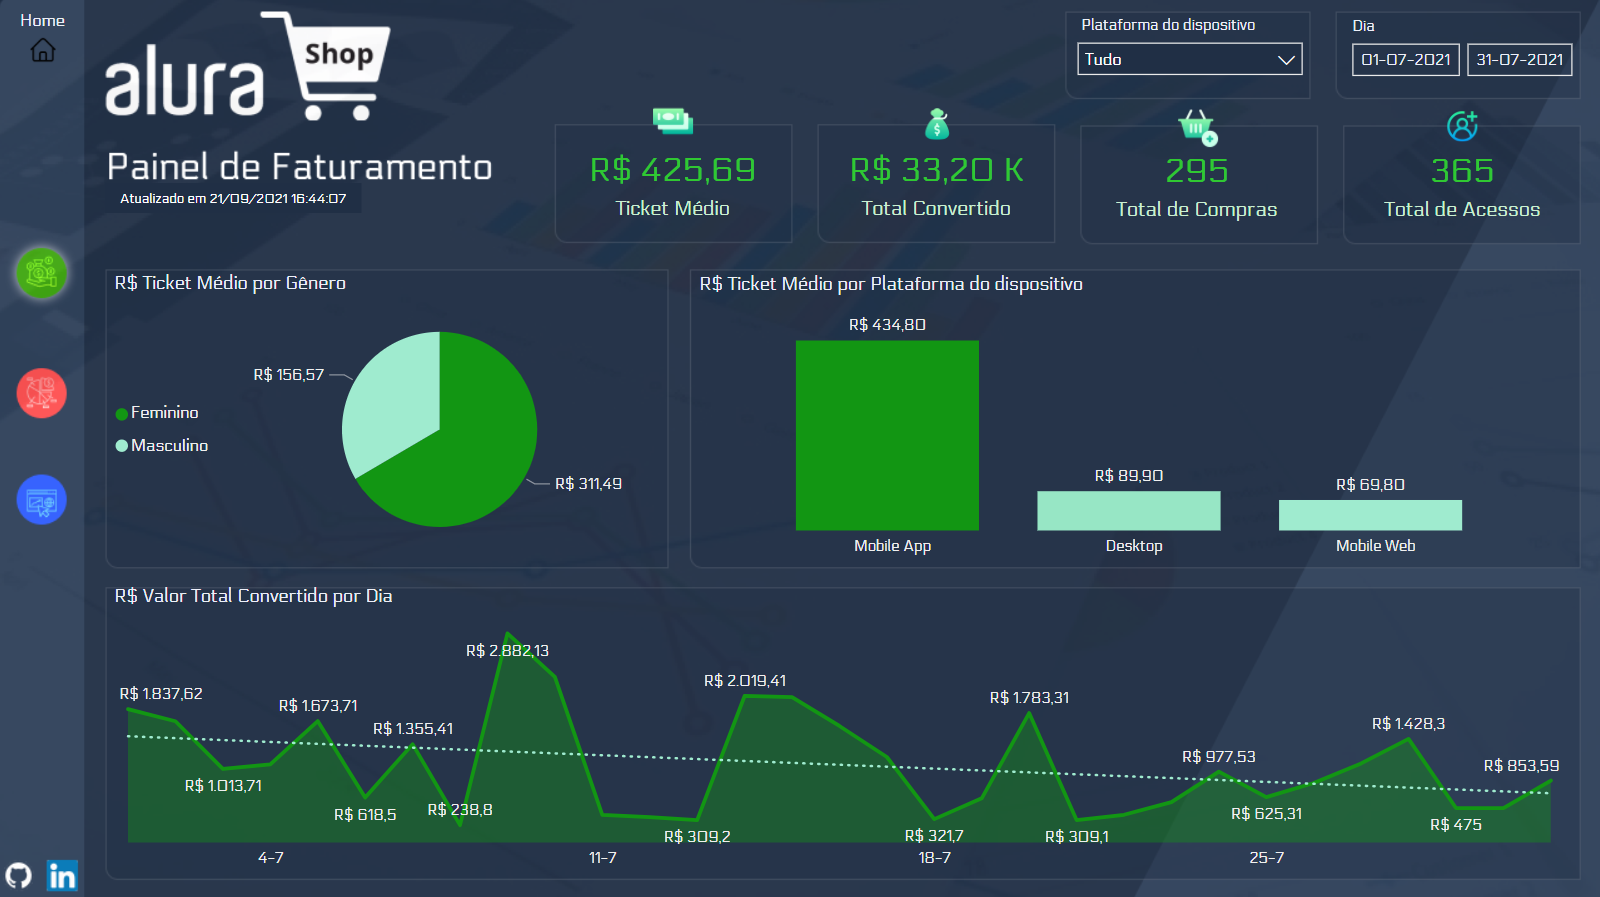

Layout of this report page (visuals, bound fields, positions):
{"tool":"powerbi","page":{"name":"Faturamento","canvas":[1280,720],"ordinal":1},"visuals":[{"type":"card","fields":{"Values":["Medidas.R$ Ticket Médio Disp"]},"box":[445.7,100.2,185.5,93.2],"z":0},{"type":"card","fields":{"Values":["Medidas.R$ Total Convertido"]},"box":[655.8,100,186.4,93],"z":1000},{"type":"card","fields":{"Values":["Medidas.# Total de Compras Disp"]},"box":[864.2,100,187.3,95],"z":2000},{"type":"card","fields":{"Values":["Medidas.# Total Acessos"]},"box":[1076,100,186.4,95],"z":3000},{"type":"slicer","title":"Período","fields":{"Values":["Dispositivos.Dia"]},"box":[1068.1,10.5,194.3,70.3],"z":4000},{"type":"slicer","fields":{"Values":["Dispositivos.Plataforma do dispositivo"]},"box":[851.9,9.7,199.6,70.3],"z":5000},{"type":"areaChart","fields":{"Y":["Medidas.R$ Total Convertido Disp"],"Category":["Tempo.Date"]},"box":[87.1,470.2,1173,232.6],"z":6000},{"type":"clusteredColumnChart","fields":{"Category":["Dispositivos.Plataforma do dispositivo","Dispositivos.Plataforma","Dispositivos.Colocação"],"Y":["Medidas.R$ Ticket Médio Disp"]},"box":[554.8,220.2,705.3,232.6],"z":7000},{"type":"pieChart","fields":{"Category":["Idade_Genero.Gênero"],"Y":["Medidas.R$ Ticket Médio"]},"box":[87,219.8,444.8,233],"z":8000},{"type":"shape","box":[14.2,289.9,40.7,46.4],"z":9000},{"type":"shape","box":[14.2,378,40.7,46.4],"z":10000},{"type":"image","title":"Home","box":[7.6,10.4,55,46.4],"z":11000},{"type":"image","box":[707,83,83.9,34.7],"z":11001},{"type":"image","box":[898,83,118.6,42.4],"z":11002},{"type":"image","box":[1124.7,85.8,88.7,33.8],"z":11003},{"type":"image","box":[491,77.2,94.5,42.4],"z":11004}]}

Visuals, with their boxes in screenshot pixels (x1, y1, x2, y2), scaled from the page's 1280x720 canvas onto the 1600x897 screenshot:
card - Medidas.R$ Ticket Médio Disp: [557, 125, 789, 241]
card - Medidas.R$ Total Convertido: [820, 125, 1053, 240]
card - Medidas.# Total de Compras Disp: [1080, 125, 1314, 243]
card - Medidas.# Total Acessos: [1345, 125, 1578, 243]
"Período" slicer: [1335, 13, 1578, 101]
slicer - Dispositivos.Plataforma do dispositivo: [1065, 12, 1314, 100]
areaChart - Medidas.R$ Total Convertido Disp x Tempo.Date: [109, 586, 1575, 876]
clusteredColumnChart - Dispositivos.Plataforma do dispositivo x Dispositivos.Plataforma: [694, 274, 1575, 564]
pieChart - Idade_Genero.Gênero x Medidas.R$ Ticket Médio: [109, 274, 665, 564]
shape: [18, 361, 69, 419]
shape: [18, 471, 69, 529]
"Home" image: [10, 13, 78, 71]
image: [884, 103, 989, 147]
image: [1122, 103, 1271, 156]
image: [1406, 107, 1517, 149]
image: [614, 96, 732, 149]
